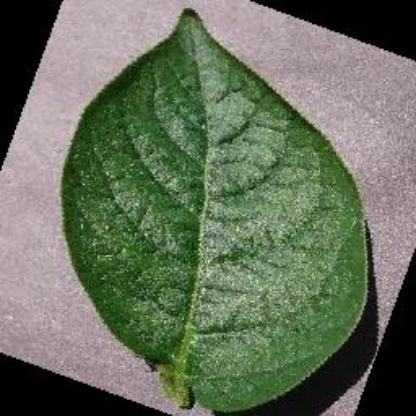Healthy-plant: (41, 7, 370, 414)
